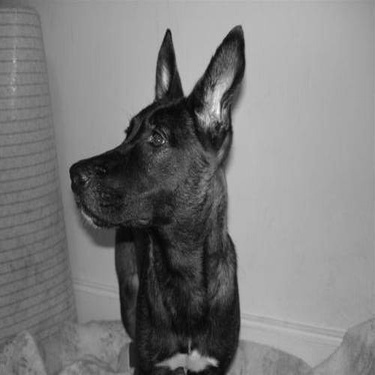dog: (53, 11, 258, 372)
